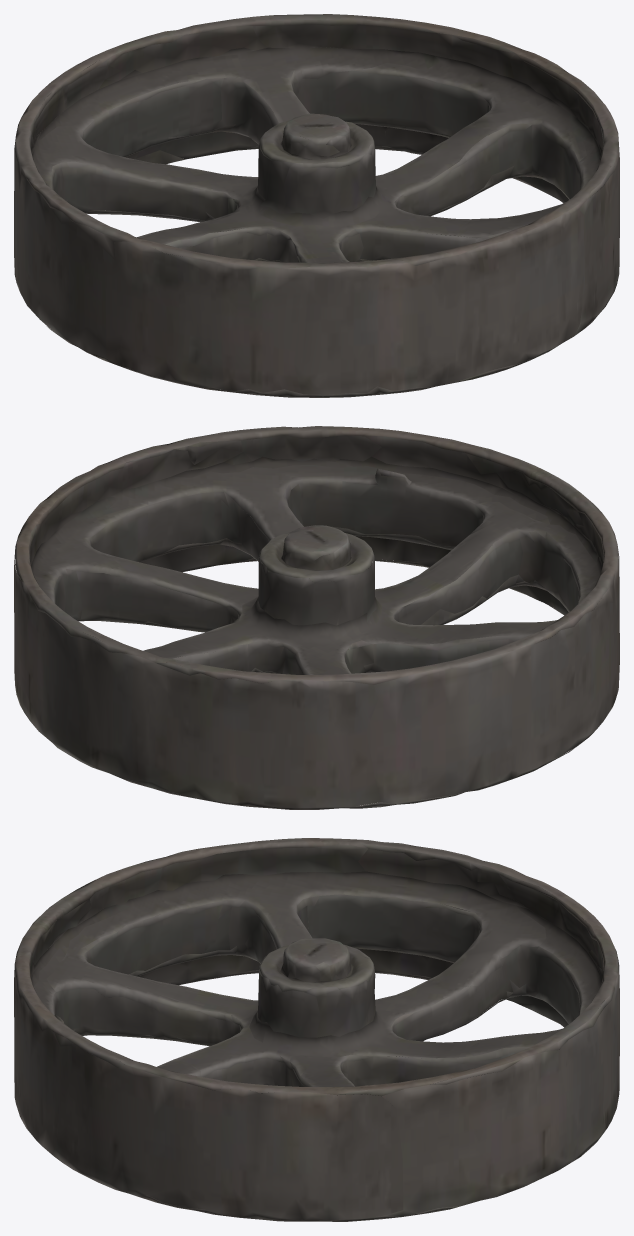
The model's file is polea.glb.
3 views of the same model, one above another, from view 1: azimuth 30°, elevation 25°; view 2: azimuth 150°, elevation 25°; view 3: azimuth 270°, elevation 25° (orthographic).
Visible parts, largest first — view 1: geometry_0; view 2: geometry_0; view 3: geometry_0.
Boxes of the visible parts, left/top/right/bottom form: geometry_0: left=14, top=14, right=619, bottom=397; geometry_0: left=14, top=426, right=619, bottom=809; geometry_0: left=14, top=838, right=619, bottom=1221.
Size of the model in its own units: 0.45 by 0.12 by 0.4501.
Materials: 1 (1 with a texture image).
